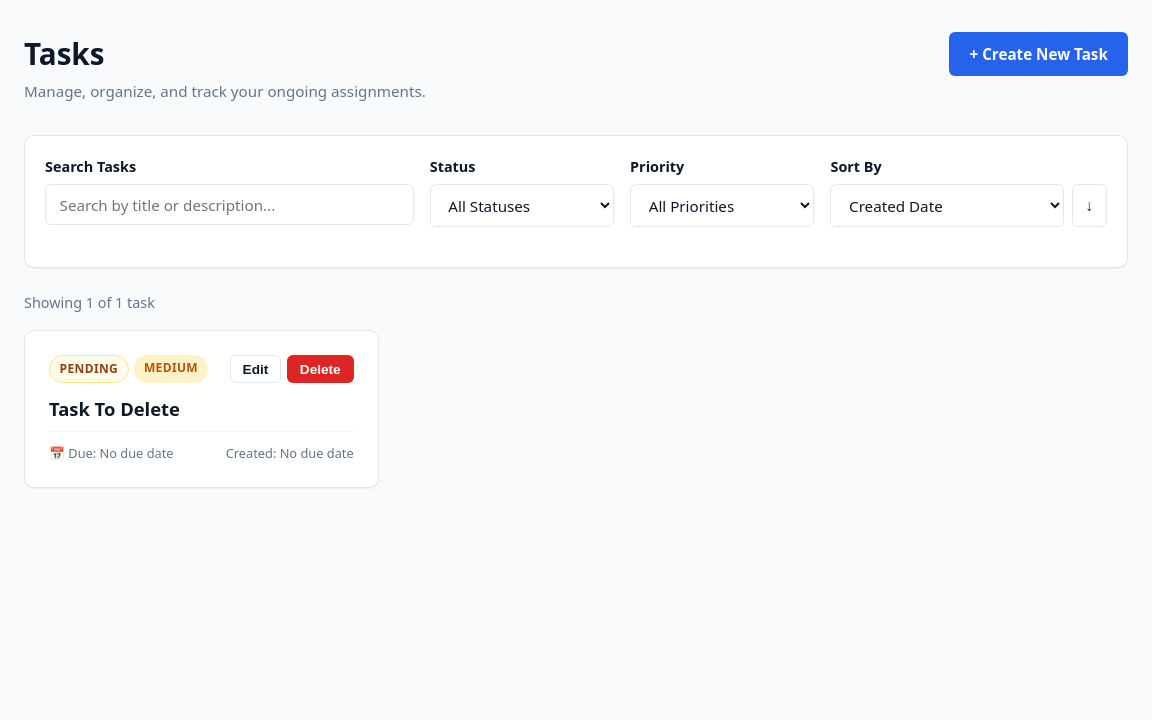
Scenario: Task Interactions › Delete Modal Confirmation in TaskList › opens delete confirmation modal and can cancel
The image size is (1152, 720).
Expected: the heading "Task To Delete" is shown, [49,396,180,421]
Click delete button
Step 1. Click the button with aria-label "delete task to delete" → click(320, 369), box [287,355,354,383]
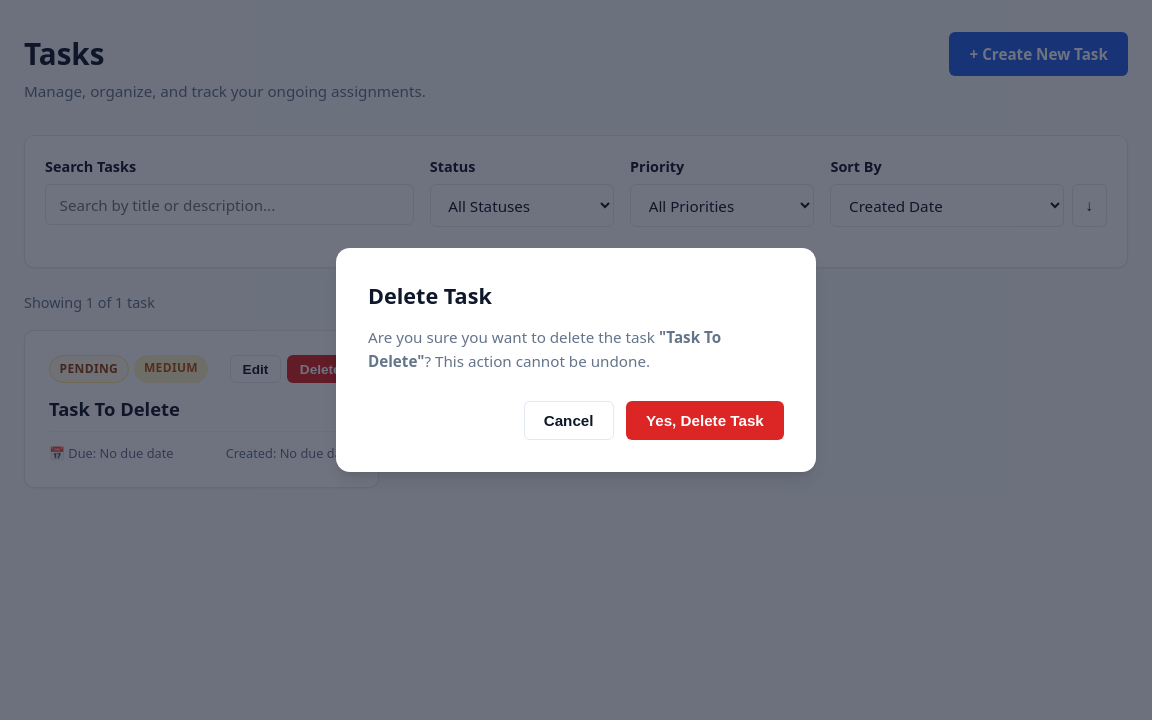
Expected: the heading "Delete Task" is shown, [368,281,492,310]
Expected: the text "Are you sure you want to delete the task" is shown, [368,327,659,347]
Click Cancel
Step 2. Click the button "Cancel" → click(569, 420), box [524,401,614,440]
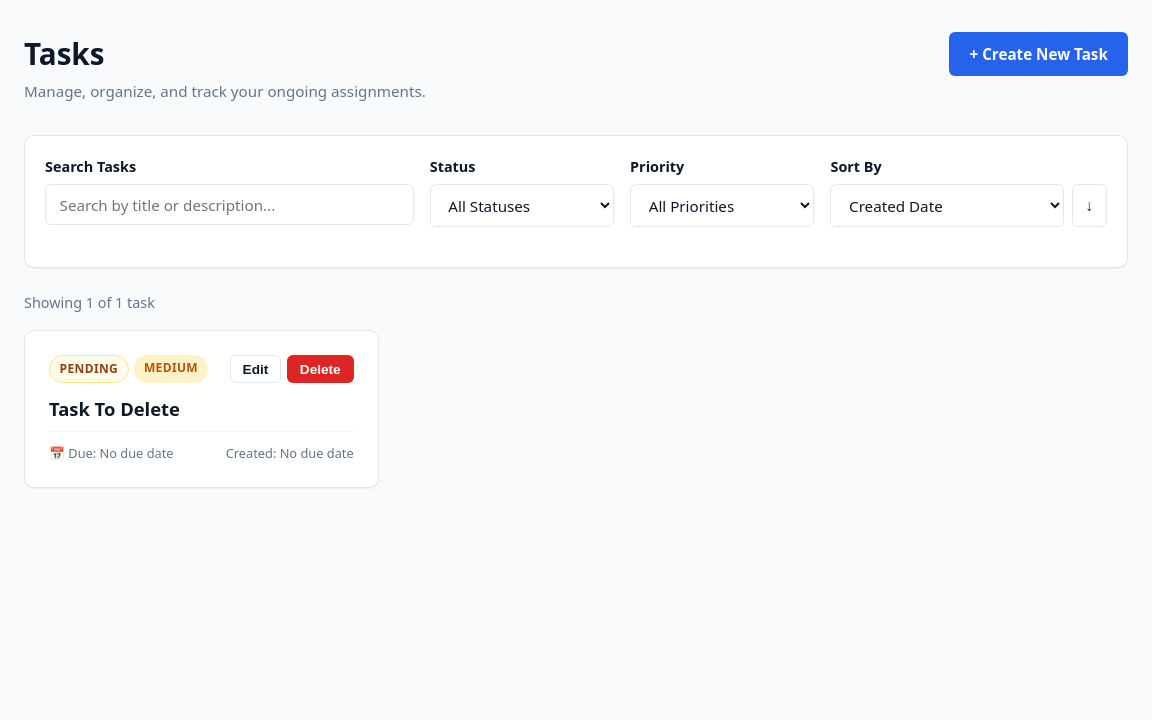
Expected: the text "Are you sure you want to delete the task" is gone
